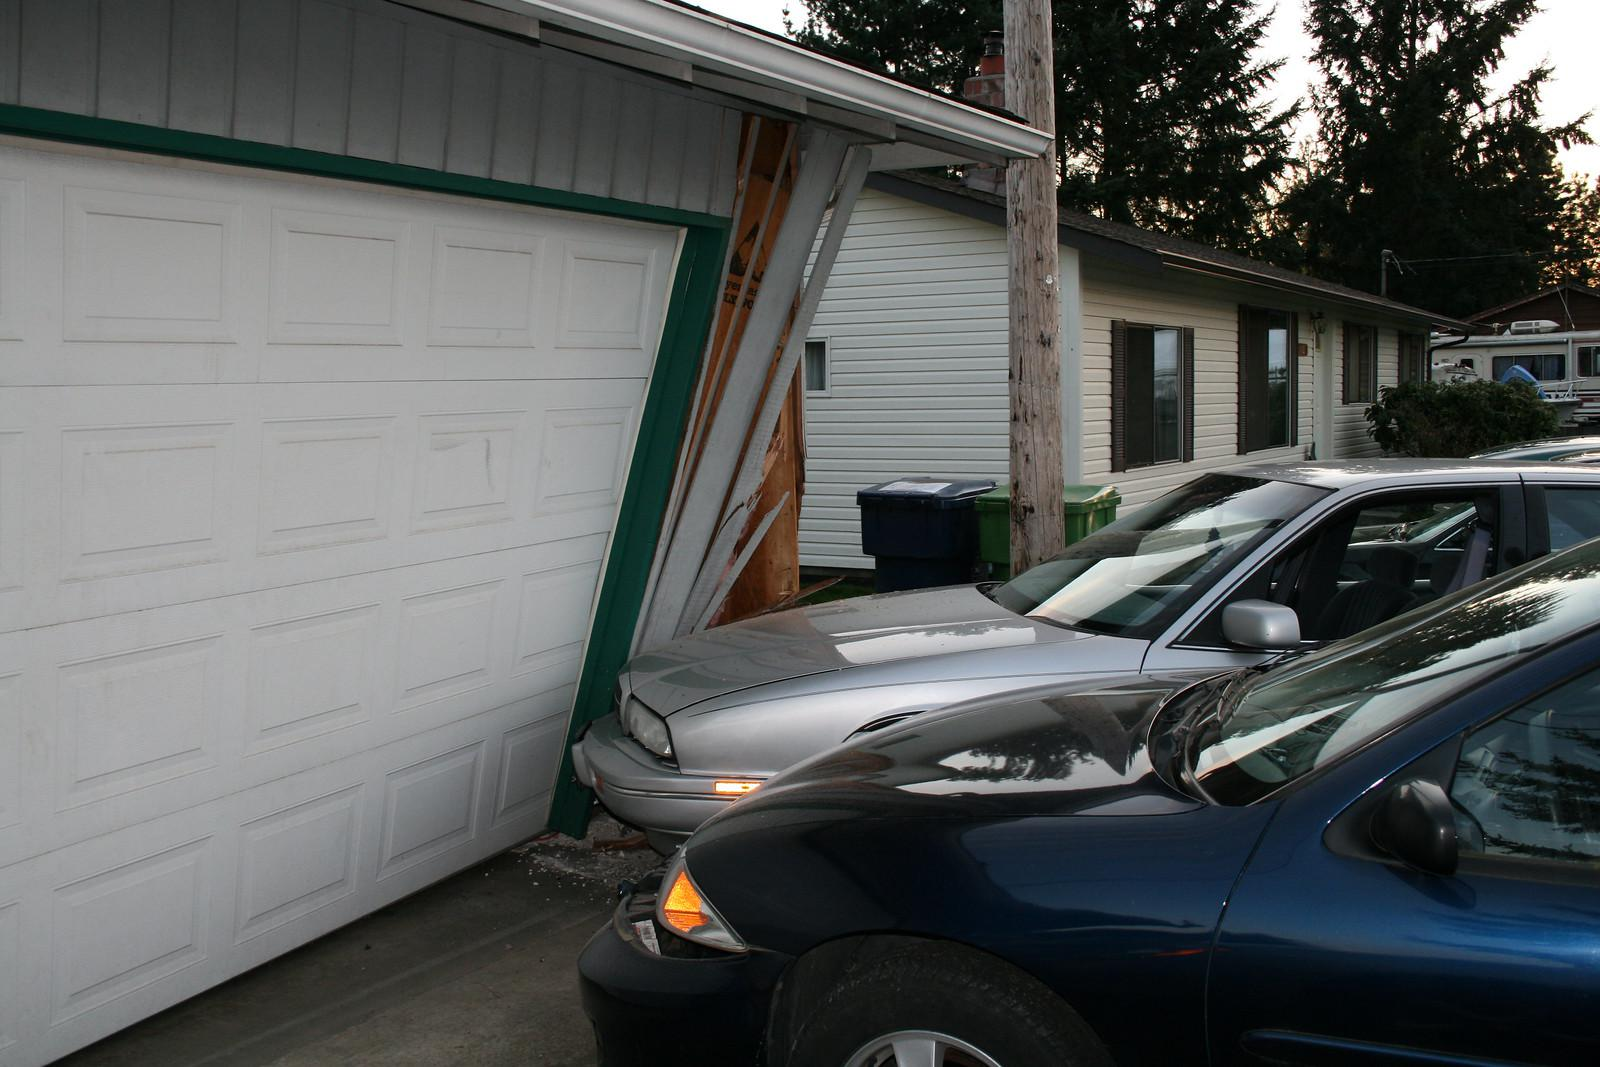front-bumper-dent: (511, 740, 690, 900)
